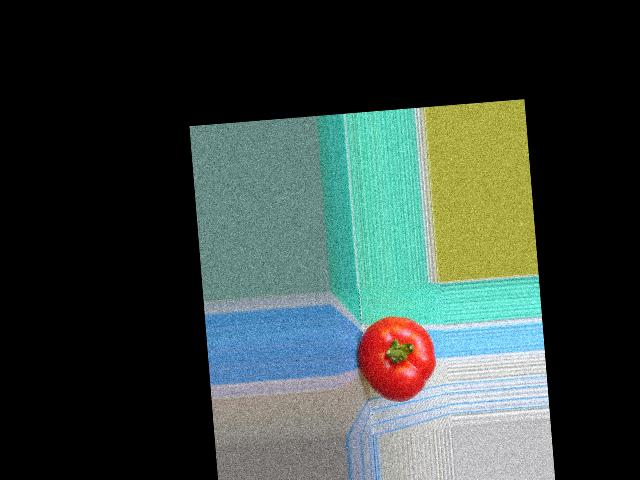tomato: (354, 313, 438, 404)
